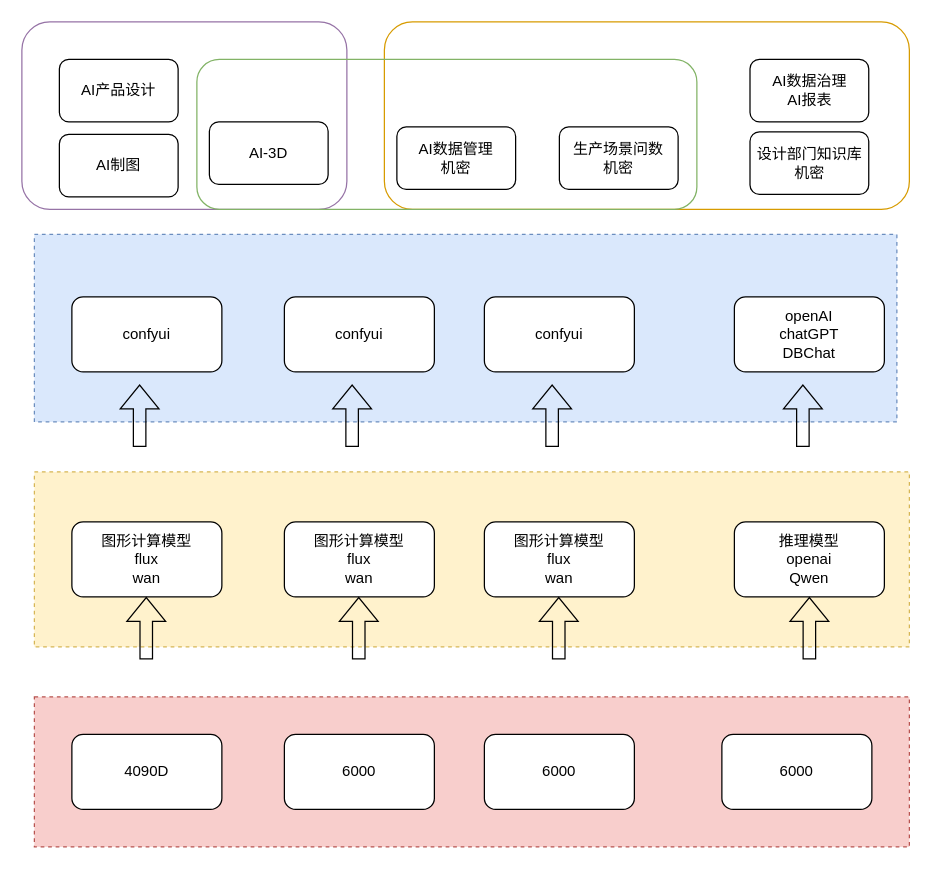
Some shapes in this 931 by 869 pixel diagram are drawn without their labels. The box of each missing label's shape, as (x1, y1, x2, y2) in pixels:
AI企业管理: (383, 21, 909, 209)
AI工业设计: (21, 21, 347, 209)
应用层: (33, 233, 897, 422)
微型算力中心: (33, 696, 909, 847)
数字人，工业仿真: (196, 58, 697, 209)
模型层: (33, 471, 909, 647)
